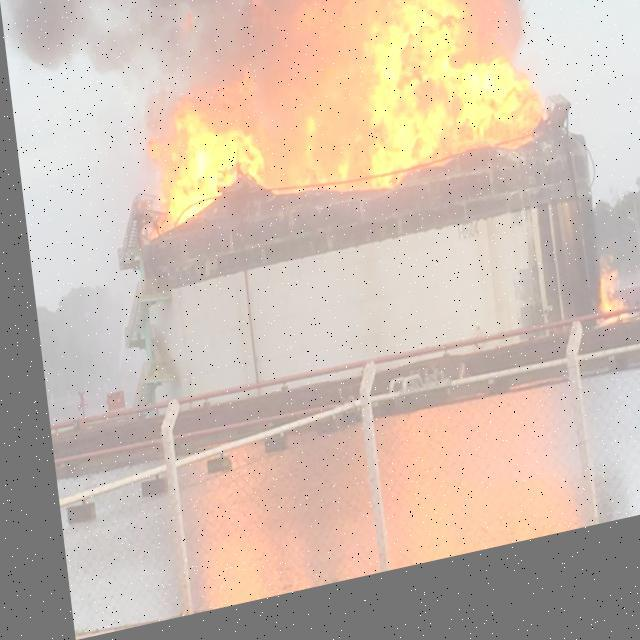Fire: (119, 0, 528, 249), (581, 286, 617, 350)
